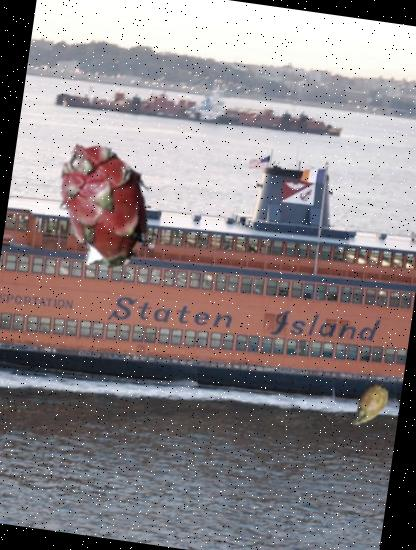Cactus: (340, 377, 398, 436)
Pitahaya: (34, 130, 180, 276)
